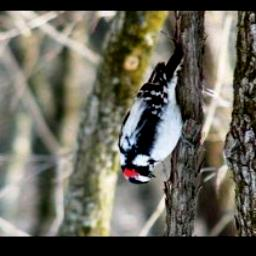Woodpecker: (114, 41, 194, 184)
